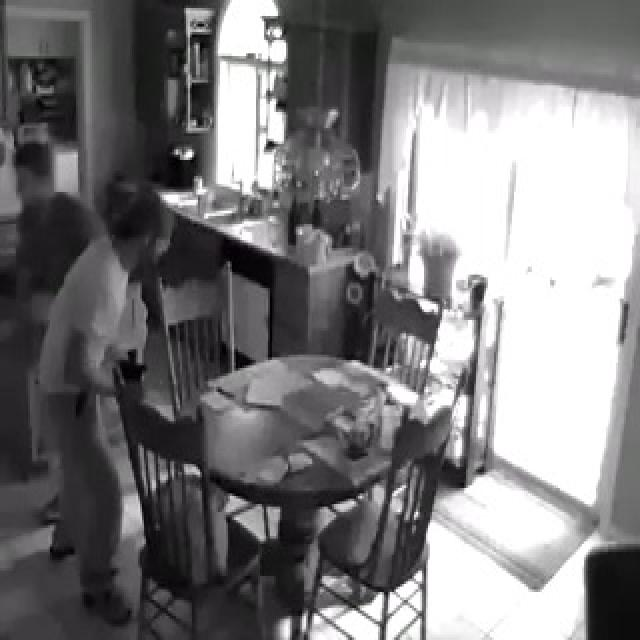thief: (107, 188, 190, 321), (13, 142, 73, 221)
